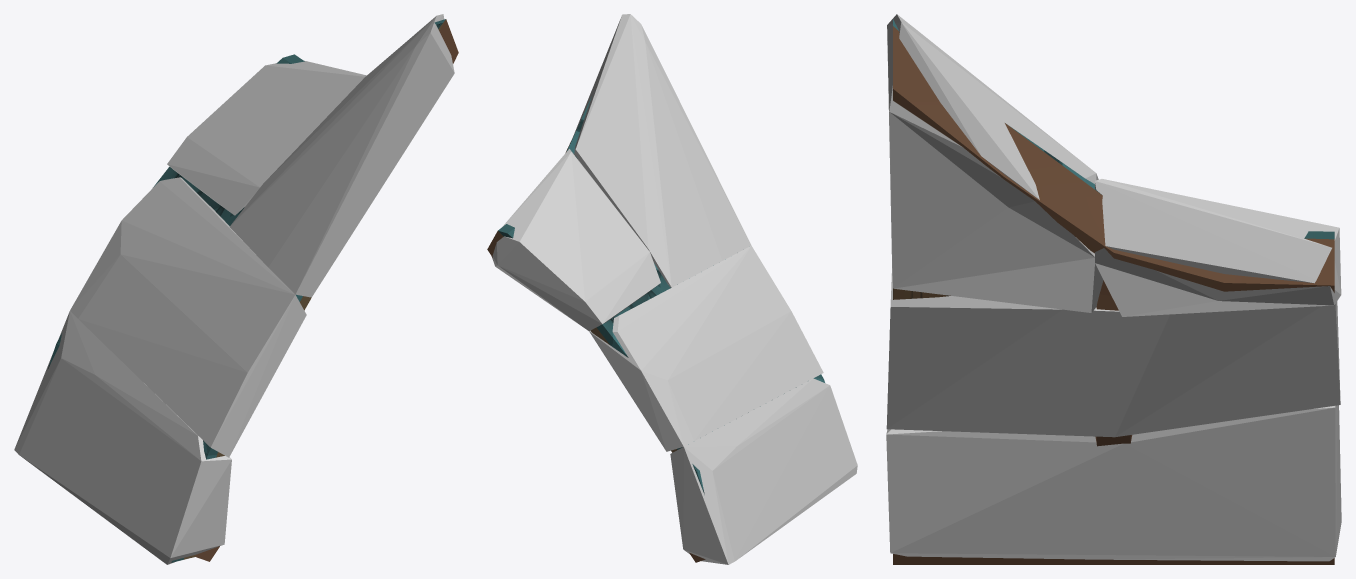
The model's file is SM_Bld_Roof_Convex_Peak_01.fbx.
3 views of the same model, side by side, from view 1: azimuth 30°, elevation 25°; view 2: azimuth 150°, elevation 25°; view 3: azimuth 270°, elevation 25° (orthographic). The views are drawn at different scales.
Visible parts, largest first — view 1: SM_Bld_Roof_Convex_Peak_01_ConvexHulls, SM_Bld_Roof_Convex_Peak_01; view 2: SM_Bld_Roof_Convex_Peak_01_ConvexHulls, SM_Bld_Roof_Convex_Peak_01; view 3: SM_Bld_Roof_Convex_Peak_01_ConvexHulls, SM_Bld_Roof_Convex_Peak_01.
Part boxes in pixels (box(x1,y1,x2,y2)): SM_Bld_Roof_Convex_Peak_01_ConvexHulls: box(14, 14, 454, 564); SM_Bld_Roof_Convex_Peak_01: box(47, 19, 458, 562); SM_Bld_Roof_Convex_Peak_01_ConvexHulls: box(491, 14, 857, 564); SM_Bld_Roof_Convex_Peak_01: box(487, 96, 824, 562); SM_Bld_Roof_Convex_Peak_01_ConvexHulls: box(886, 14, 1341, 561); SM_Bld_Roof_Convex_Peak_01: box(893, 19, 1334, 564).
Size of the model in its own units: 278 by 258 by 445.
4 materials, 3 textured.
